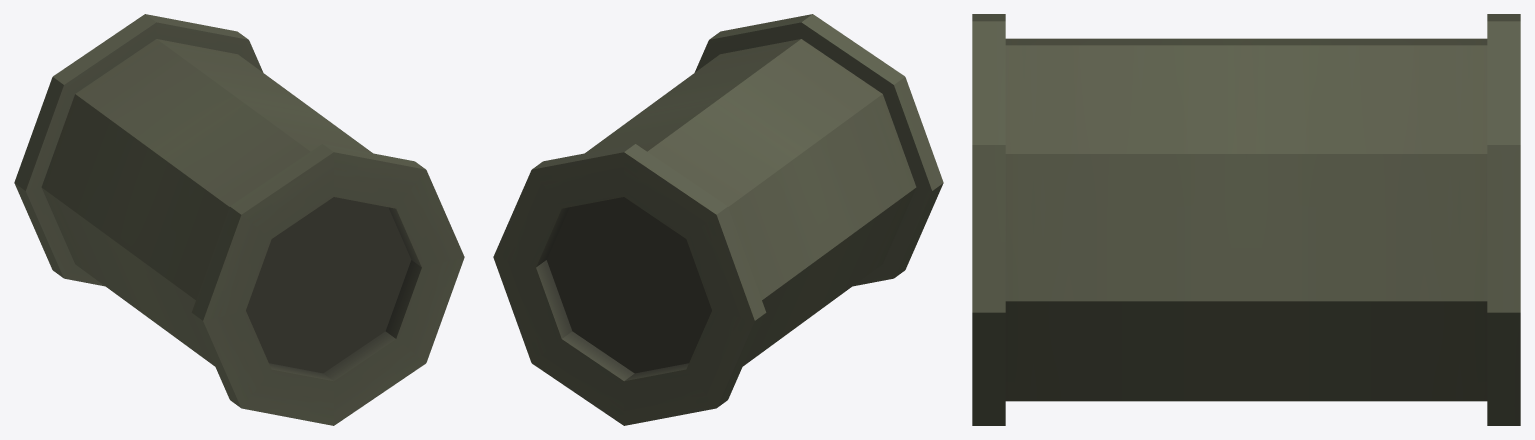
Rendered from SM_EN_Pipe_1.fbx.
3 renders of one model, left to right at view 1: azimuth 30°, elevation 25°; view 2: azimuth 150°, elevation 25°; view 3: azimuth 270°, elevation 25°, orthographic. The views are drawn at different scales.
Parts seen in each view (by area): view 1: SM_EN_Pipe_1; view 2: SM_EN_Pipe_1; view 3: SM_EN_Pipe_1.
Boxes of the visible parts, <box> form: SM_EN_Pipe_1: <box>14,14,464,425</box>; SM_EN_Pipe_1: <box>493,14,943,425</box>; SM_EN_Pipe_1: <box>972,14,1520,425</box>.
Size of the model in its own units: 80 by 100 by 80.
